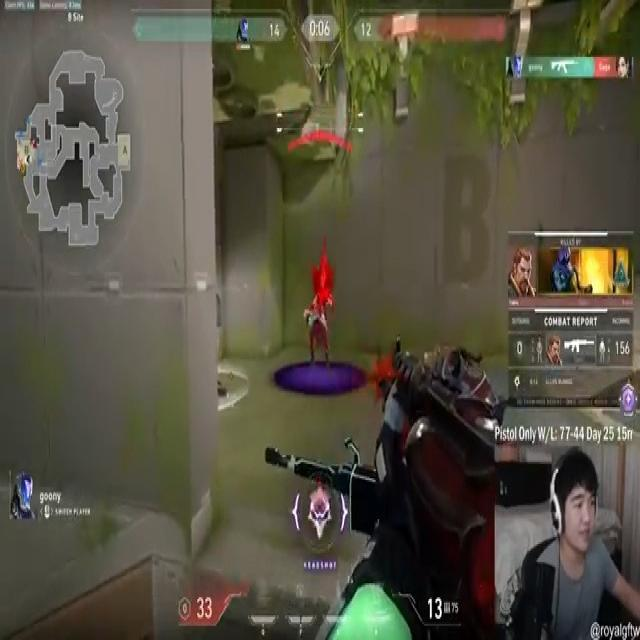enemy: (304, 284, 335, 369)
